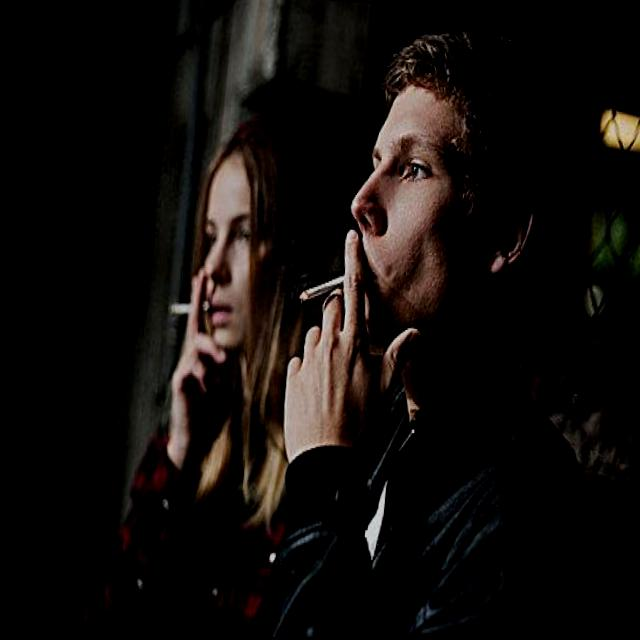smoke: (296, 271, 354, 310), (168, 298, 203, 320)
